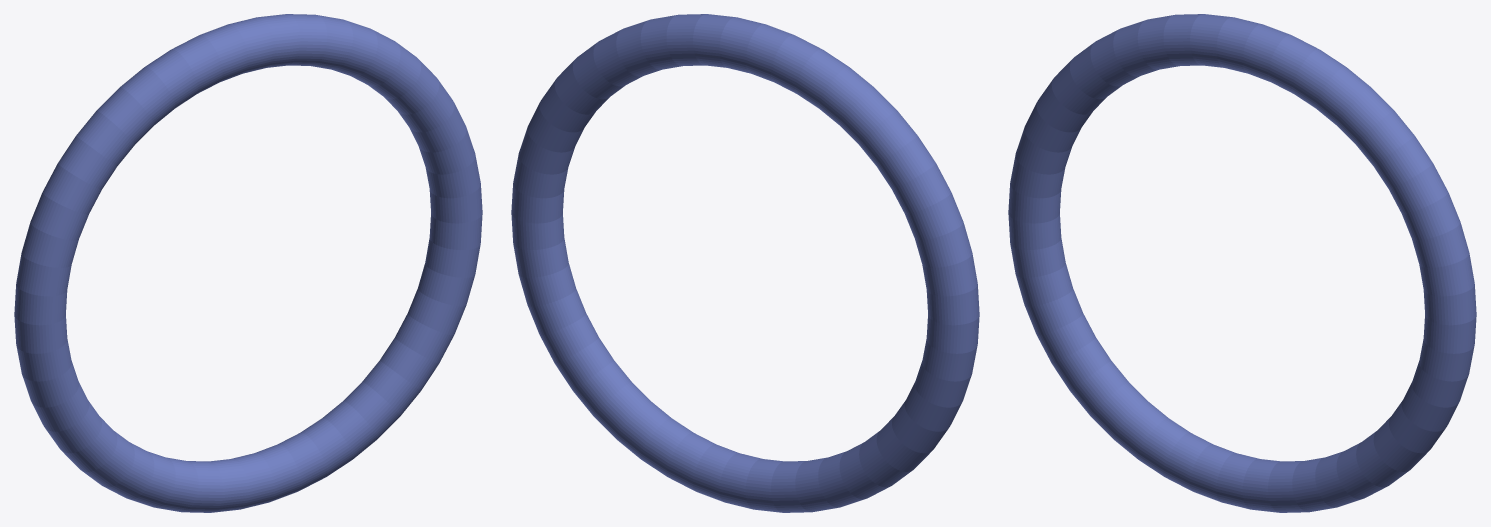
The picture shows the model from 3 angles, left to right: view 1: azimuth 30°, elevation 25°; view 2: azimuth 150°, elevation 25°; view 3: azimuth 330°, elevation 25°; orthographic projection.
Parts seen in each view (by area): view 1: world; view 2: world; view 3: world.
Part boxes in pixels (<box>): world: <box>14,14,482,512</box>; world: <box>511,14,979,512</box>; world: <box>1008,14,1476,512</box>.
Bounding box in the file's own units: 20.67 × 20.63 × 2.
